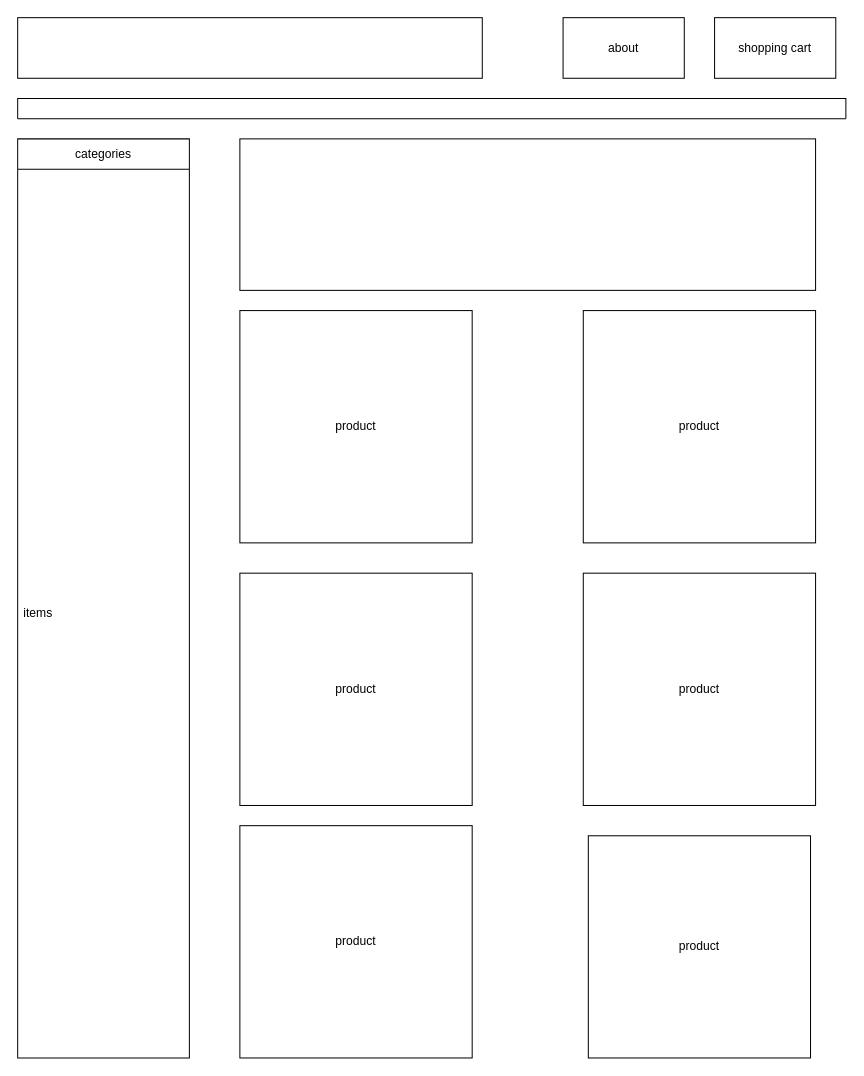
Image size: 864x1076. Some labels were removed from this diagram. The centre of each missing label's shape, as x and y in pixels:
"latest sale" belongs at pixel 527 214.
"searchbar" belongs at pixel 431 108.
"sitetitle" belongs at pixel 249 47.
